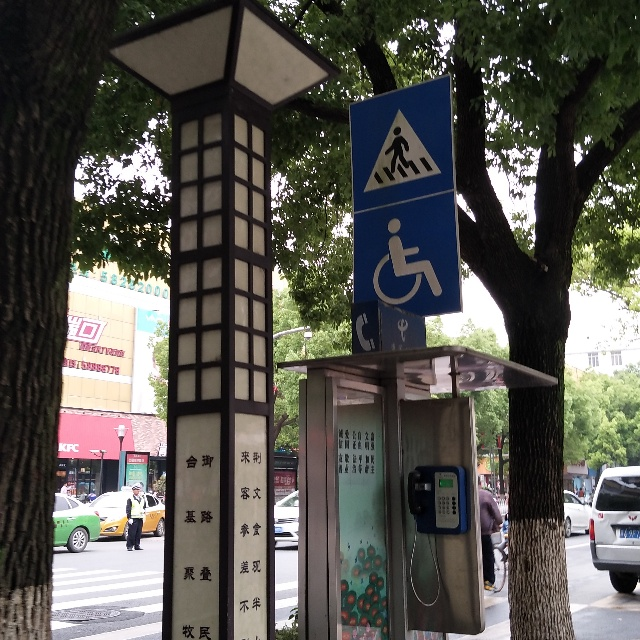crosswalk: (355, 101, 447, 196)
